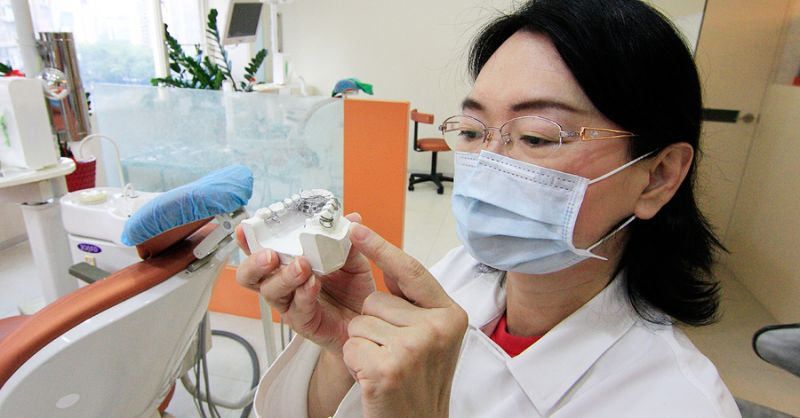mask: (450, 149, 602, 273)
